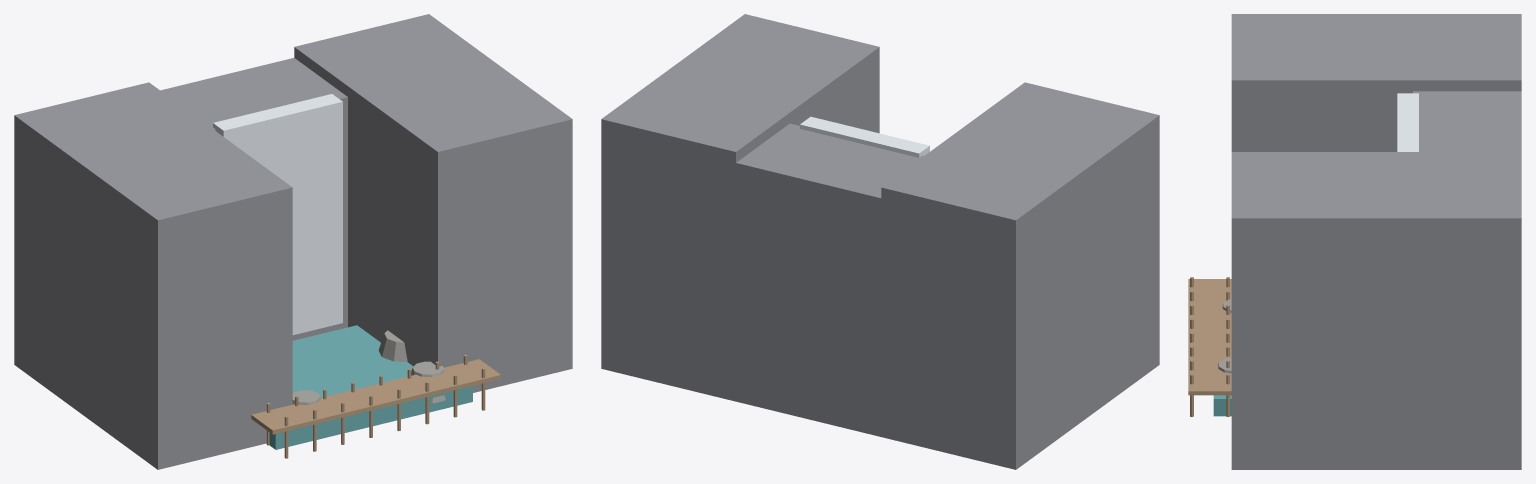
Rendered from lm_108_thac_bobla_lien_dam_va_cau_go_vach_da_bazan_cao_nguyen.glb.
3 views of the same model, side by side, from view 1: azimuth 30°, elevation 25°; view 2: azimuth 150°, elevation 25°; view 3: azimuth 270°, elevation 25° (orthographic).
Visible parts, largest first — view 1: lm_108_thac_bobla_lien_dam_va_cau_go_vach_da_bazan_cao_nguye; view 2: lm_108_thac_bobla_lien_dam_va_cau_go_vach_da_bazan_cao_nguye; view 3: lm_108_thac_bobla_lien_dam_va_cau_go_vach_da_bazan_cao_nguye.
Boxes of the visible parts, bbox=[...] form: lm_108_thac_bobla_lien_dam_va_cau_go_vach_da_bazan_cao_nguye: bbox=[14, 14, 572, 469]; lm_108_thac_bobla_lien_dam_va_cau_go_vach_da_bazan_cao_nguye: bbox=[601, 14, 1159, 469]; lm_108_thac_bobla_lien_dam_va_cau_go_vach_da_bazan_cao_nguye: bbox=[1188, 14, 1521, 469].
Bounding box in the file's own units: 40 × 23 × 27.6.
